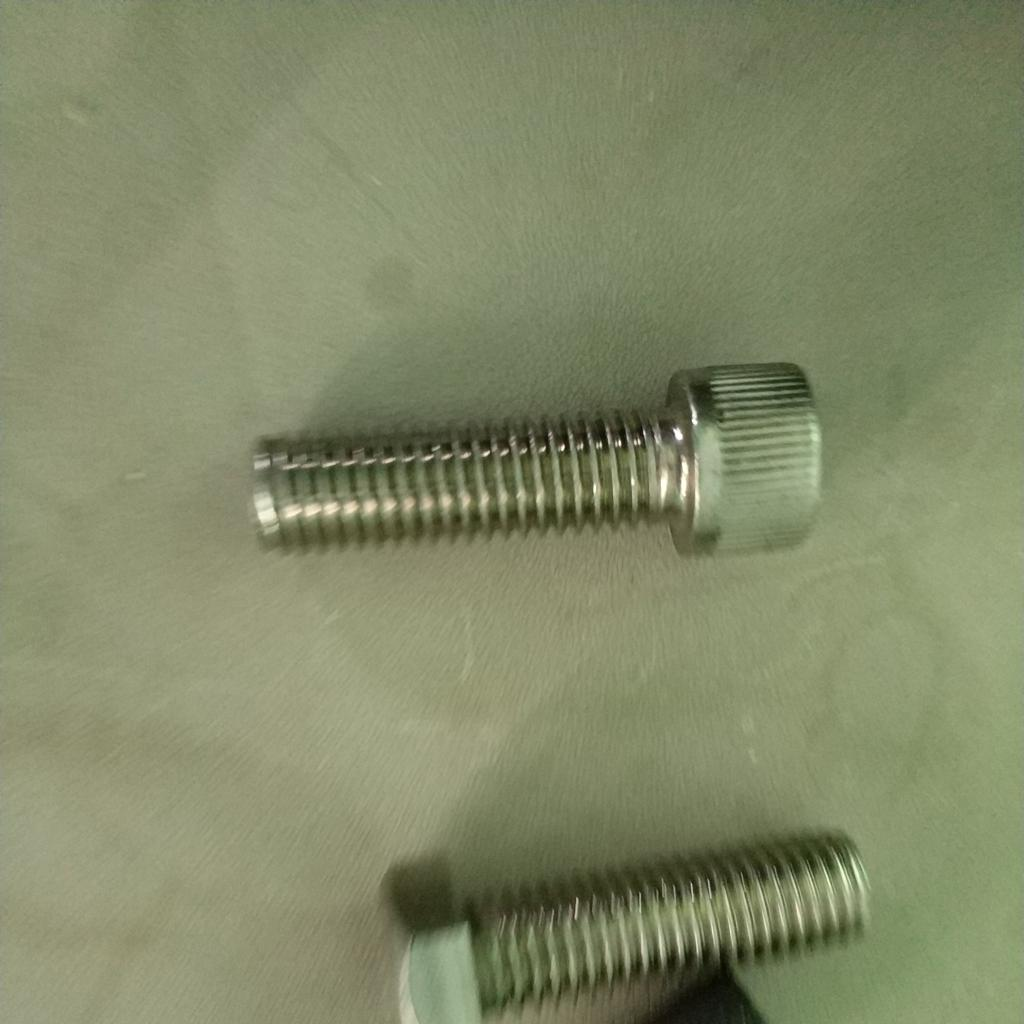screwtype1silver: (241, 358, 825, 563)
